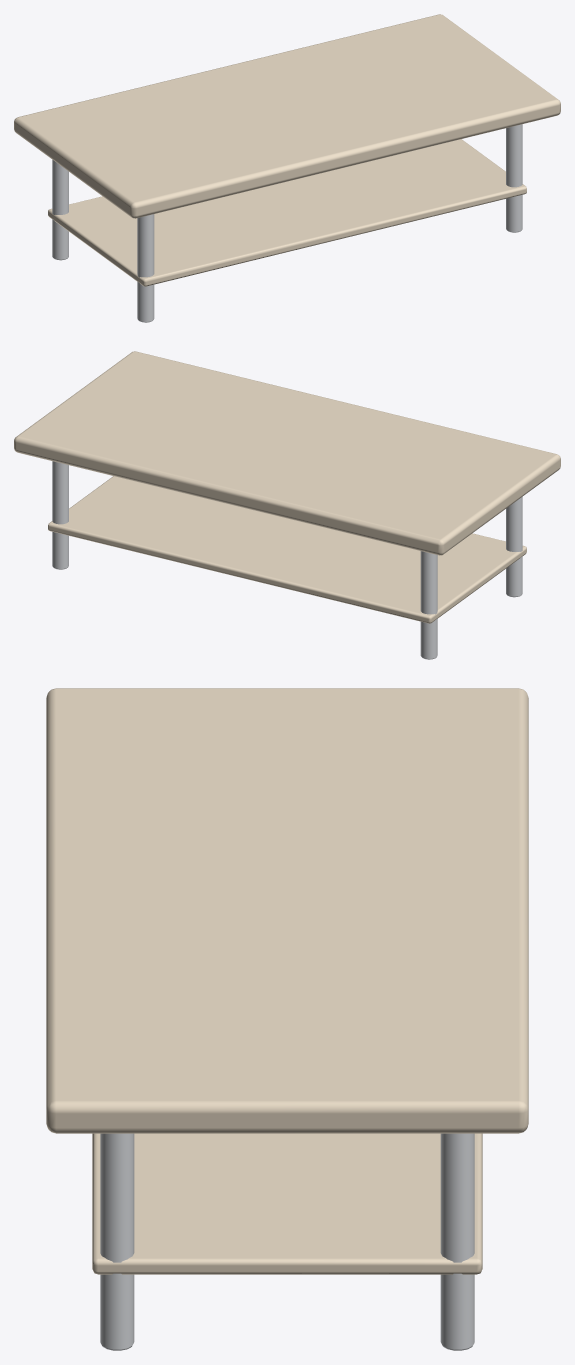
File: coffeeTable.glb
3 renders of one model, top to bottom at view 1: azimuth 30°, elevation 25°; view 2: azimuth 150°, elevation 25°; view 3: azimuth 270°, elevation 25°, orthographic. The views are drawn at different scales.
Parts seen in each view (by area): view 1: coffeeTable; view 2: coffeeTable; view 3: coffeeTable.
Part boxes in pixels (x1,y1,x2,y2): coffeeTable: (14, 14, 560, 322); coffeeTable: (14, 351, 560, 659); coffeeTable: (46, 688, 528, 1350).
Bounding box in the file's own units: 1.4 × 0.42 × 0.68.
